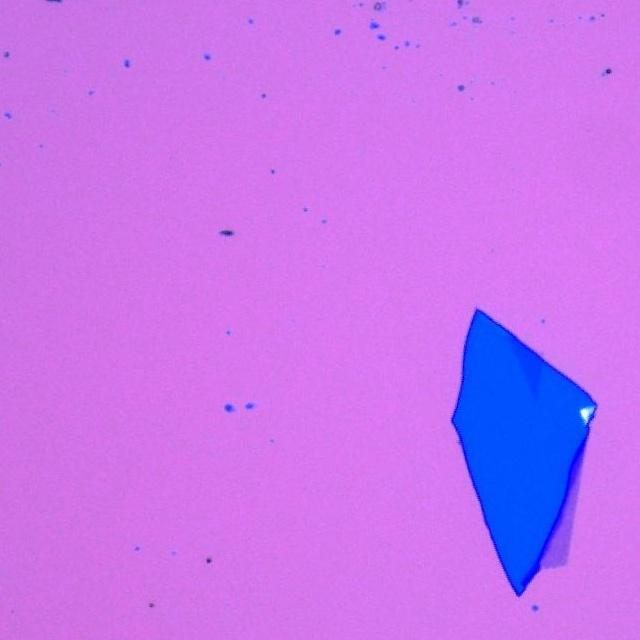monolayer-eWW4: (536, 441, 587, 570)
